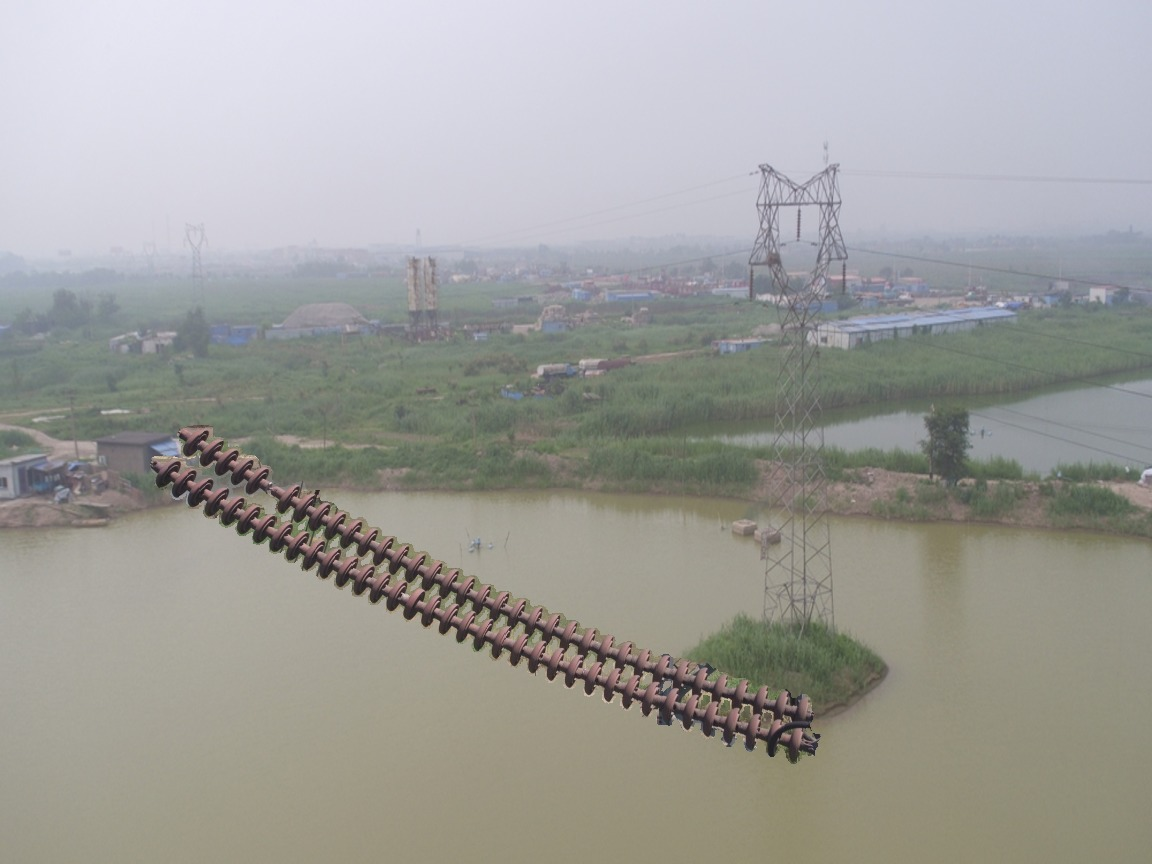defect: (241, 463, 304, 513)
